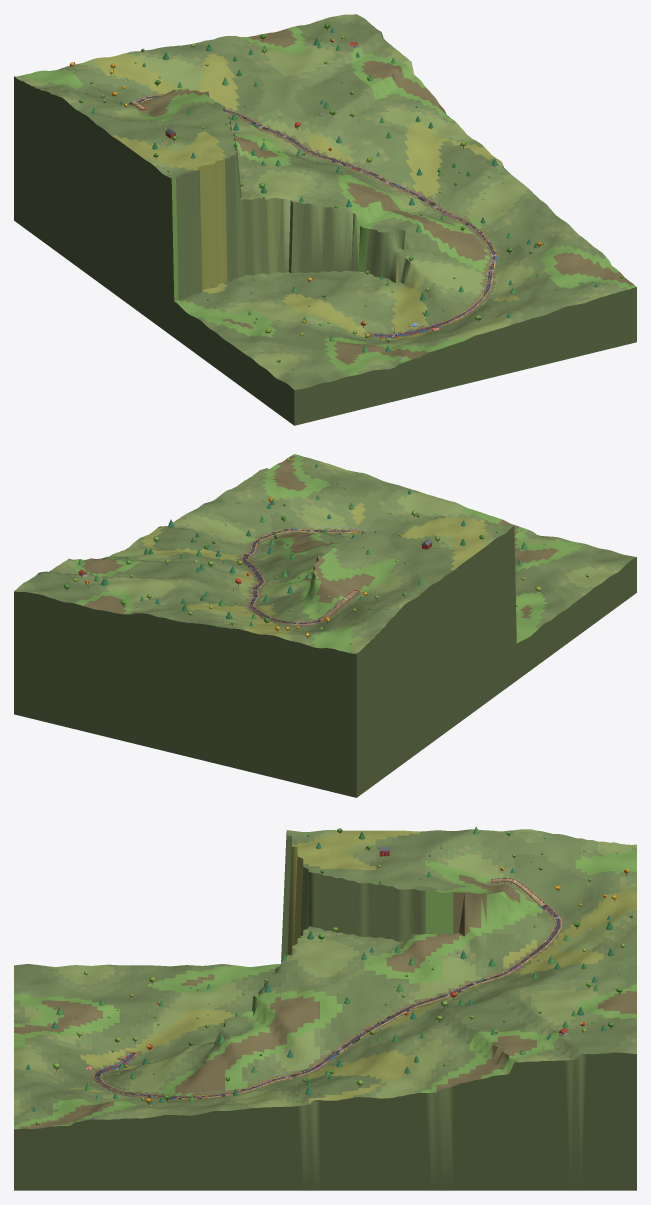
The picture shows the model from 3 angles, top to bottom: view 1: azimuth 30°, elevation 25°; view 2: azimuth 150°, elevation 25°; view 3: azimuth 270°, elevation 25°; orthographic projection. The views are drawn at different scales.
Parts seen in each view (by area): view 1: grass, pines, hay, road, leafy trees; view 2: grass, pines, hay, road, leafy trees; view 3: grass, pines, hay, road, leafy trees.
Boxes of the visible parts, left/top/right/bottom form: grass: left=14, top=14, right=636, bottom=425; pines: left=91, top=27, right=597, bottom=352; hay: left=129, top=95, right=496, bottom=337; road: left=130, top=96, right=495, bottom=336; leafy trees: left=79, top=23, right=623, bottom=362; grass: left=14, top=454, right=636, bottom=797; pines: left=67, top=463, right=527, bottom=626; hay: left=240, top=528, right=367, bottom=625; road: left=241, top=529, right=364, bottom=623; leafy trees: left=64, top=458, right=588, bottom=630; grass: left=14, top=829, right=636, bottom=1190; pines: left=26, top=826, right=614, bottom=1111; hay: left=93, top=877, right=562, bottom=1099; road: left=94, top=878, right=560, bottom=1098; leafy trees: left=35, top=828, right=632, bottom=1125.
Size of the model in its own units: 395 by 182 by 560.
